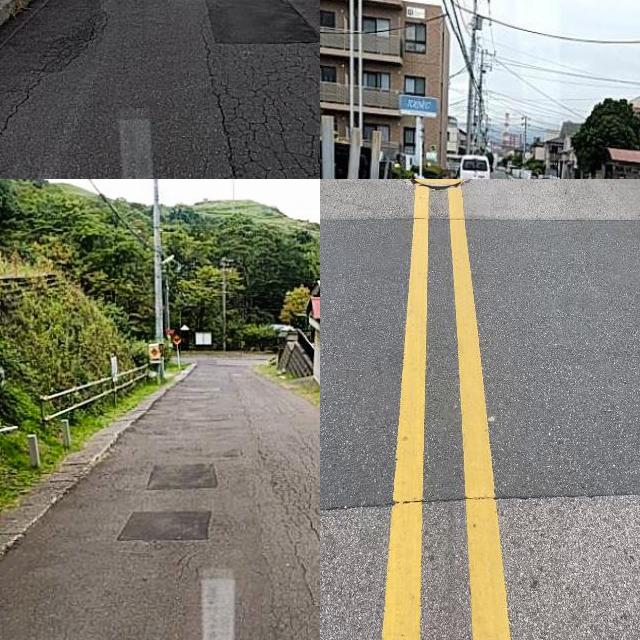Retak Buaya: (208, 45, 320, 179), (258, 443, 320, 629)
Sambungan: (320, 218, 640, 518), (209, 0, 320, 39), (139, 456, 232, 498), (119, 511, 214, 543)
